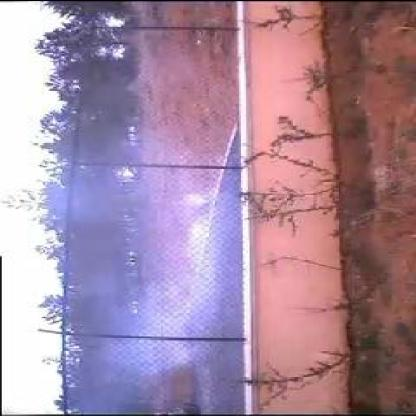-: (64, 165, 246, 338)
